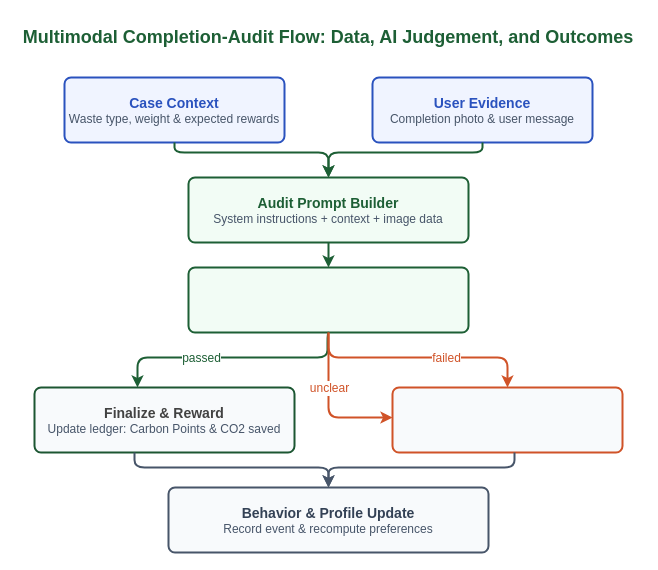
Some shapes in this 658 by 570 pixel diagram are drawn without their labels. Each missing label, with the box of its shape:
Feedback & Retry Return audit reason, allow new attempt: (391, 386, 623, 453)
Multimodal LLM Judgement Verify item match & disposal suitability: (187, 266, 469, 333)
